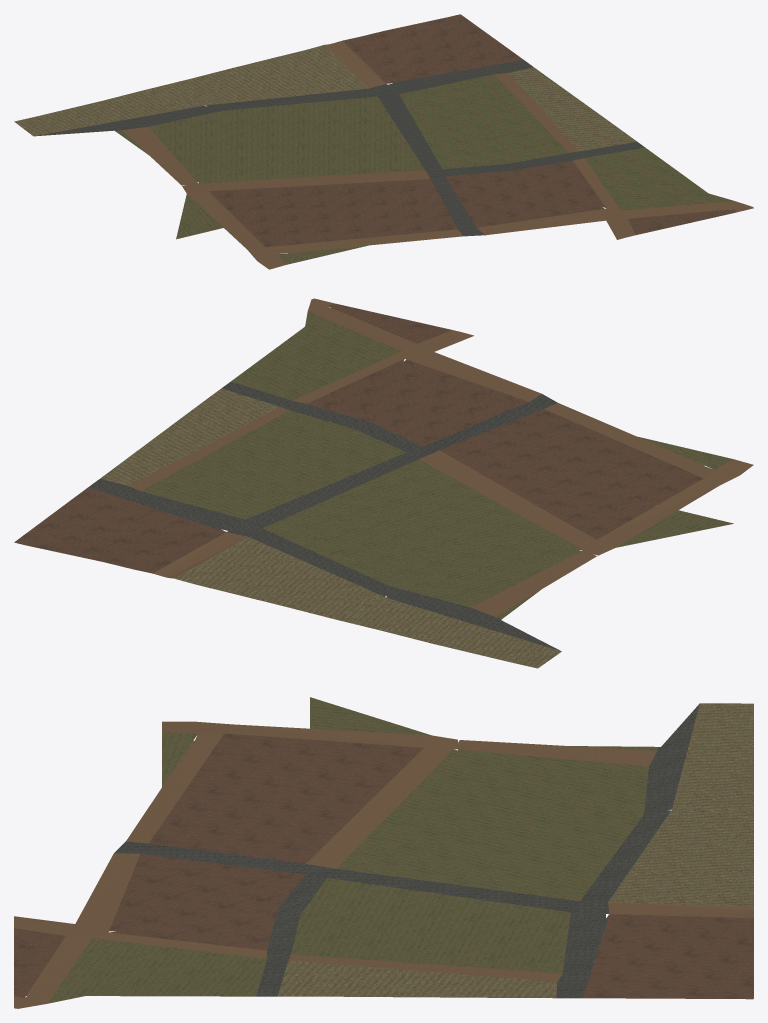
File: Terreno004.fbx
The picture shows the model from 3 angles, top to bottom: view 1: azimuth 30°, elevation 25°; view 2: azimuth 150°, elevation 25°; view 3: azimuth 270°, elevation 25°; orthographic projection. The views are drawn at different scales.
Parts seen in each view (by area): view 1: Terreno.004; view 2: Terreno.004; view 3: Terreno.004.
Boxes of the visible parts, bbox=[...] form: Terreno.004: bbox=[14, 14, 753, 269]; Terreno.004: bbox=[14, 298, 753, 668]; Terreno.004: bbox=[14, 697, 753, 1008].
Size of the model in its own units: 24640 by 314 by 25000.
